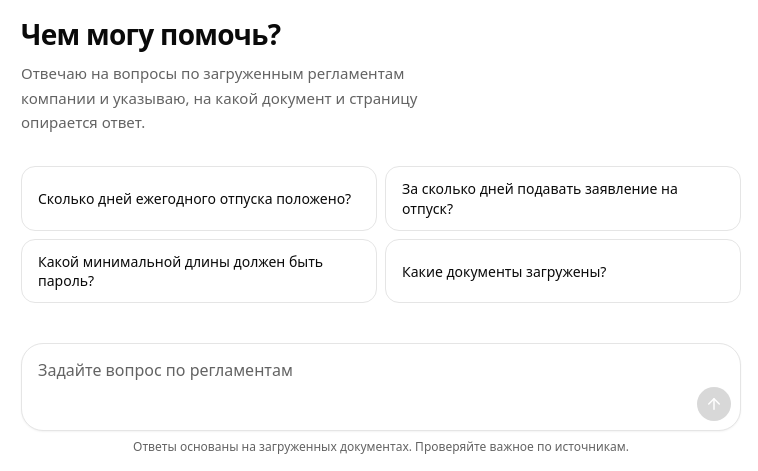
Scenario: Chat › renders labels missing from sources as plain text
The width and height of the screenshot is (758, 471).
In the text box named "Сообщение": (381, 366) top-left (22, 344), bottom-right (740, 386), type "Сколько дней отпуска?"
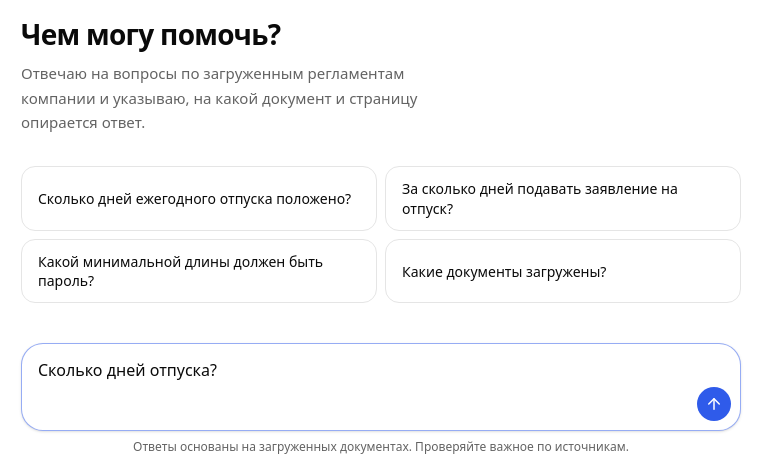
Press Enter
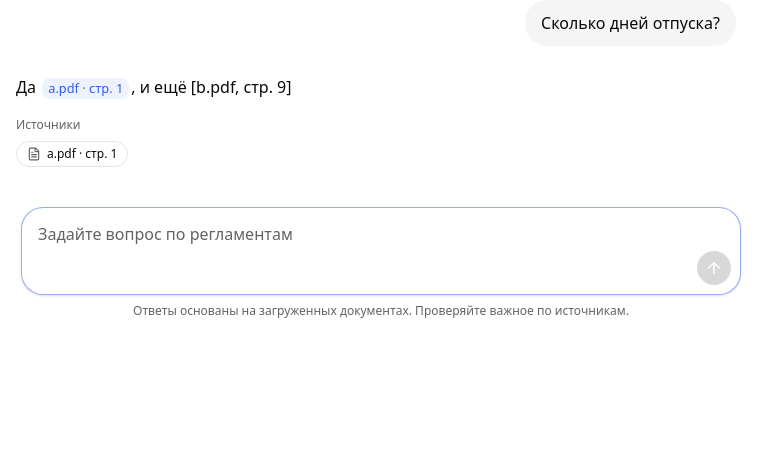
Check: the text "Да a.pdf · стр. 1 , и ещё [b.pdf, стр. 9]" is shown, box top-left (16, 76), bottom-right (292, 99)
